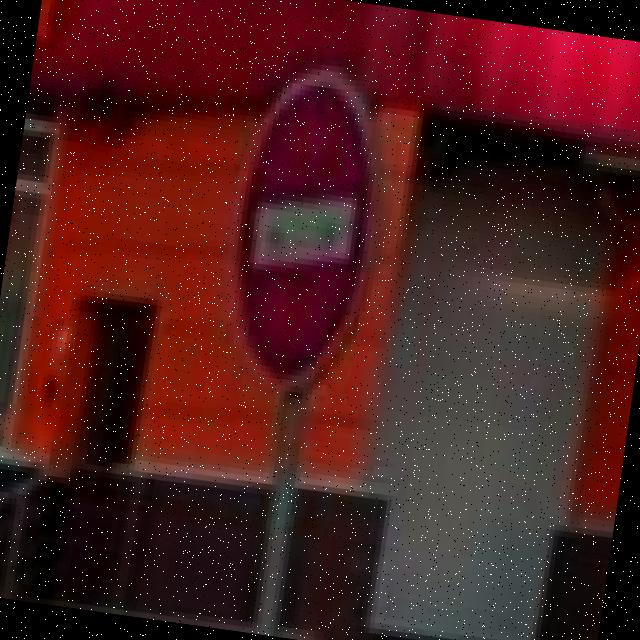Zakaz wjazdu: (209, 55, 402, 406)
